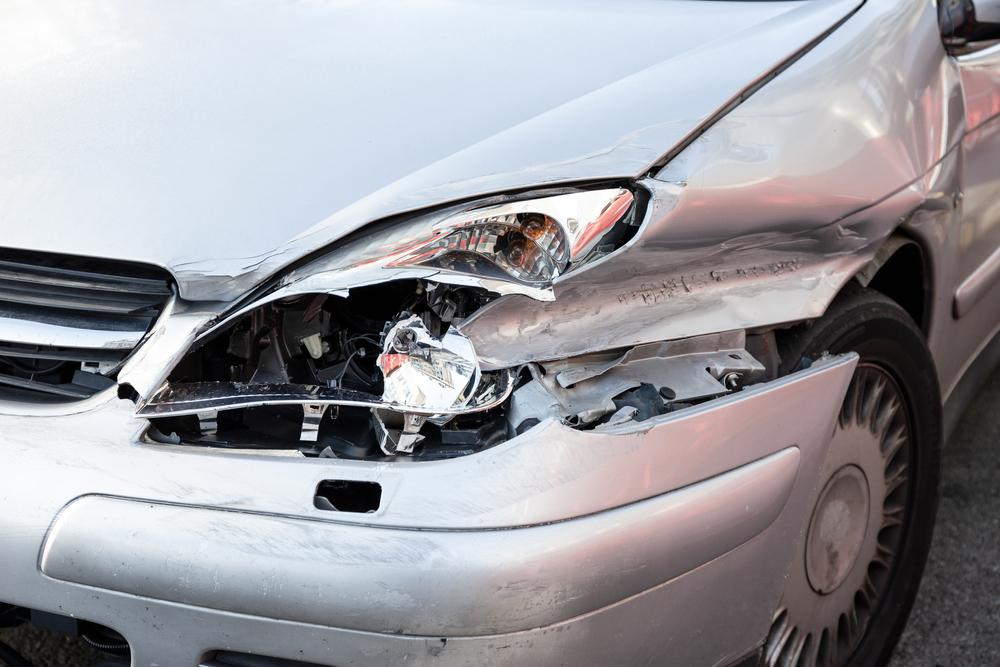dent: (461, 209, 887, 373), (655, 108, 775, 187)
lamp broken: (138, 183, 640, 412)
scratch: (147, 474, 460, 570)
